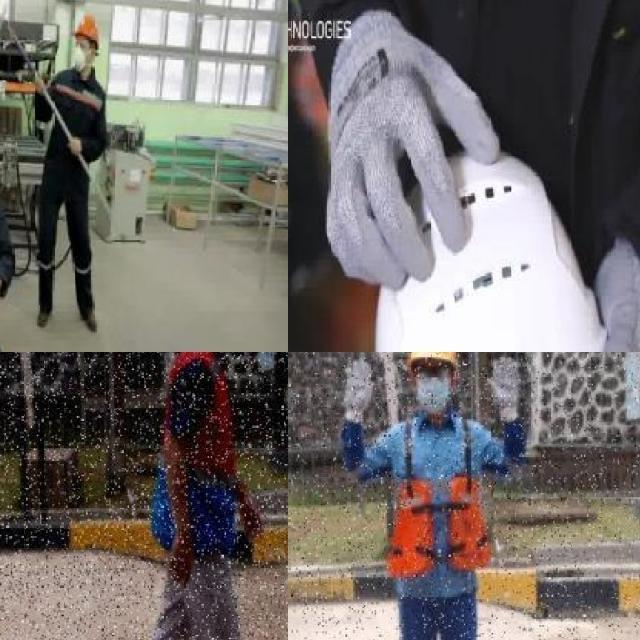apron: (324, 6, 502, 292), (563, 232, 640, 352), (484, 353, 528, 424), (340, 358, 377, 429)
